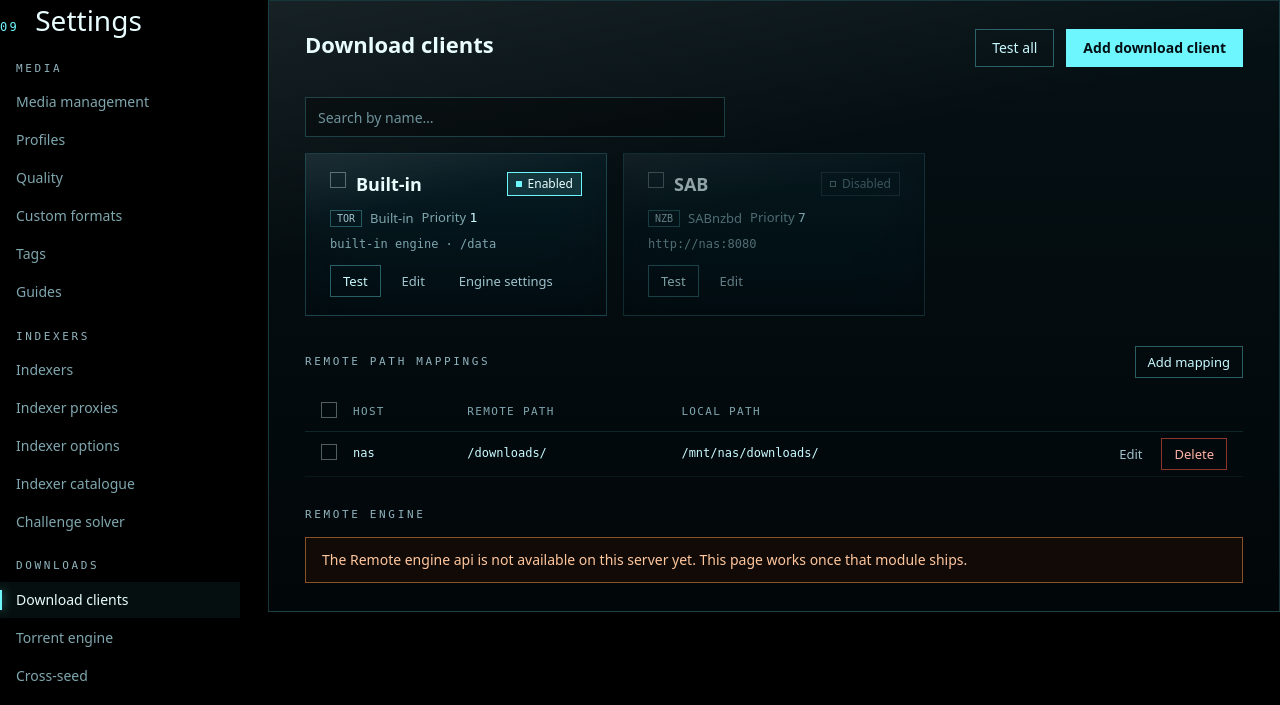
Test: download client cards and remote path mappings › renders a card per client with protocol, status chip, mono priority, Test / Edit, and the mapping table
This screenshot has width=1280, height=705.
expect the text "Enabled" is shown: met, box [506,172,582,196]
expect the text "TOR" is shown: met, box [330,210,362,227]
Click the button with aria-label "Delete mapping /downloads/". click: x=1194, y=454
box: [1162,438,1227,470]
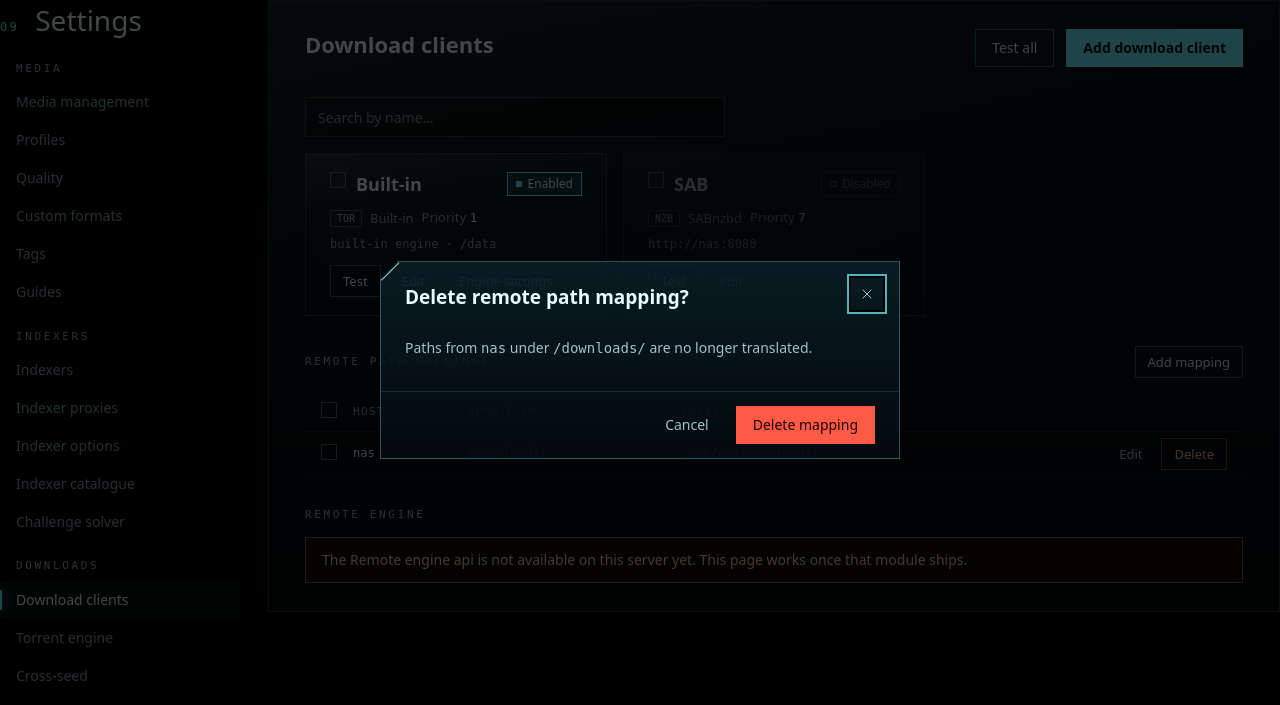
expect the button "Delete mapping" is shown: met, box [736,406,875,444]
